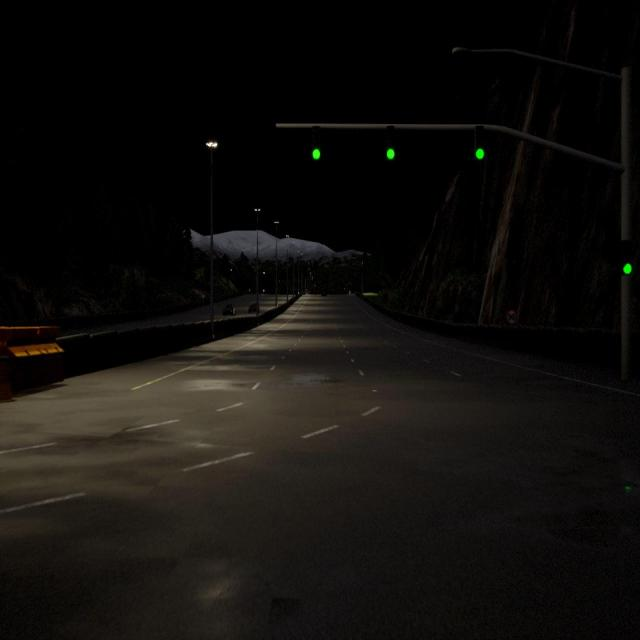Traffic_Signs: (506, 310, 517, 324), (202, 295, 204, 298)
Vehicle: (222, 304, 236, 316), (248, 303, 260, 314), (321, 292, 327, 296)
traffic_light: (622, 239, 632, 275), (475, 125, 485, 161), (312, 126, 320, 160), (386, 126, 394, 160)
